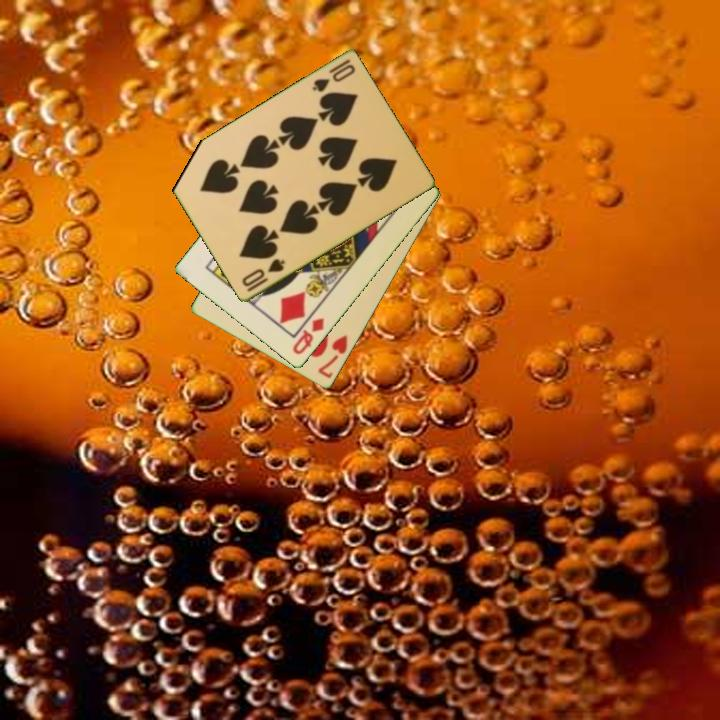10s: (238, 255, 288, 295), (309, 56, 358, 96)
7h: (314, 332, 351, 382)
Qd: (289, 315, 327, 358)
